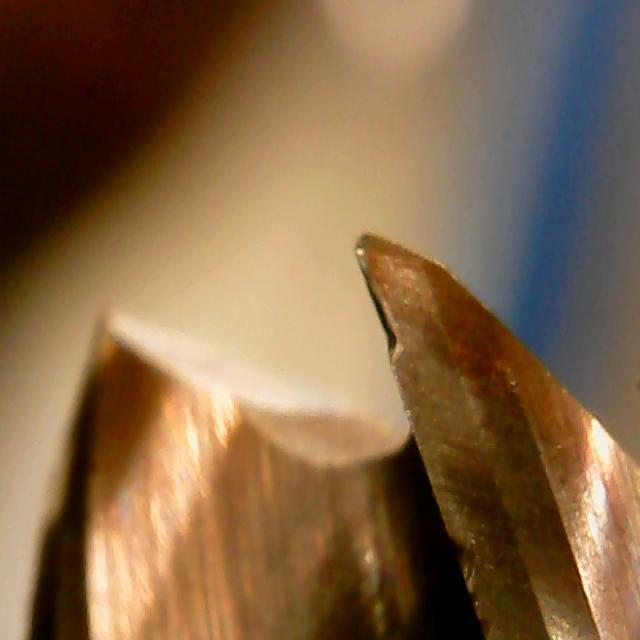Tool-wear-class-1: (326, 214, 484, 429)
